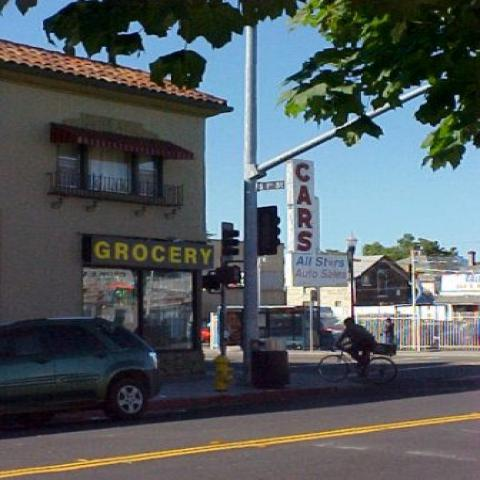bus: (209, 301, 341, 350)
car: (0, 316, 163, 422)
